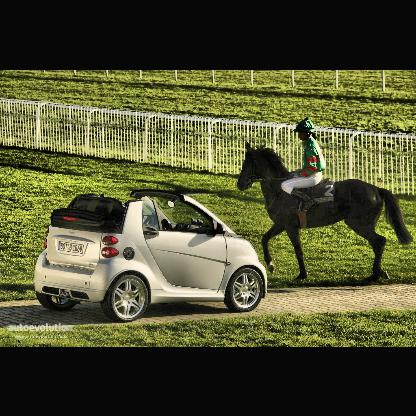smart fortwo Convertible 2012: (32, 188, 272, 327)
